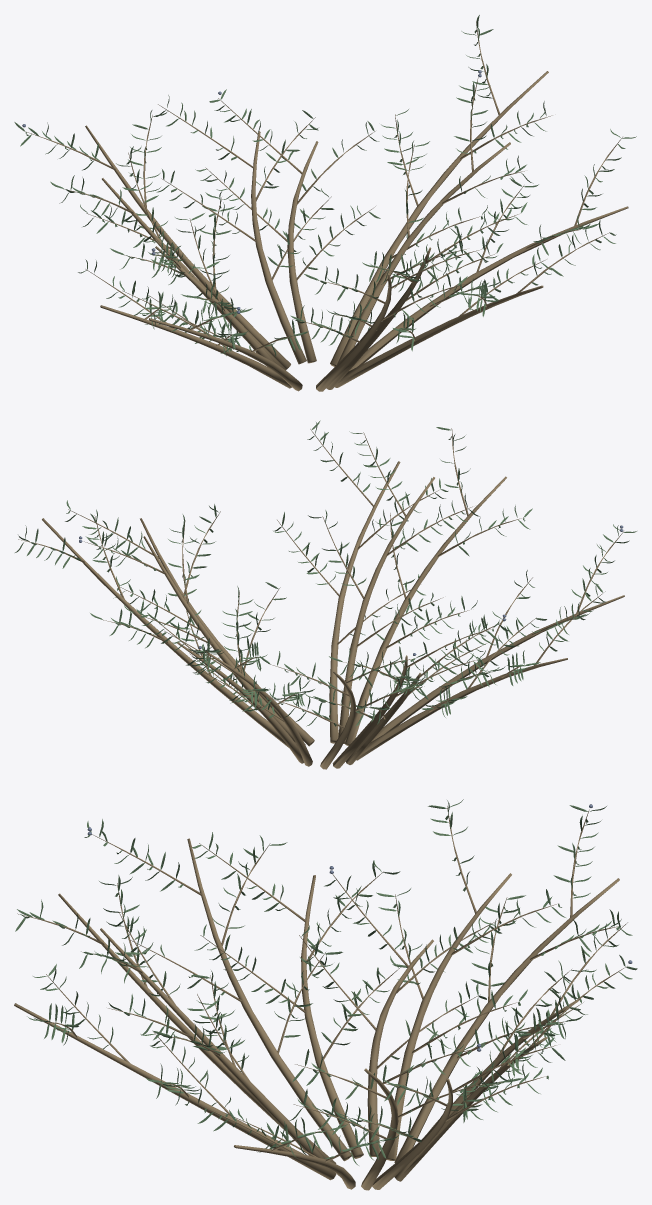
File: Romarin_2_Niveau0.fbx
3 renders of one model, top to bottom at view 1: azimuth 30°, elevation 25°; view 2: azimuth 150°, elevation 25°; view 3: azimuth 270°, elevation 25°, orthographic. The views are drawn at different scales.
Parts seen in each view (by area): view 1: Romarin_2_Niveau0; view 2: Romarin_2_Niveau0; view 3: Romarin_2_Niveau0.
Part boxes in pixels (left/top/right/bottom): Romarin_2_Niveau0: left=14, top=15, right=636, bottom=391; Romarin_2_Niveau0: left=15, top=420, right=636, bottom=769; Romarin_2_Niveau0: left=14, top=799, right=637, bottom=1190.
Bounding box in the file's own units: 90.91 × 39.5 × 78.75.
